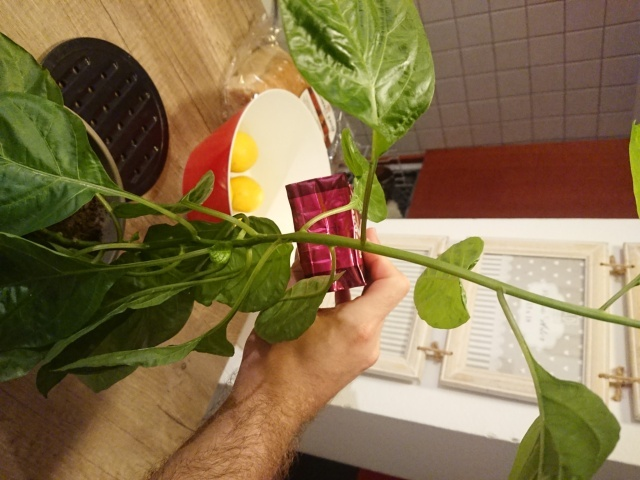Barcaffe Classic Original 225g: (283, 170, 371, 297)
